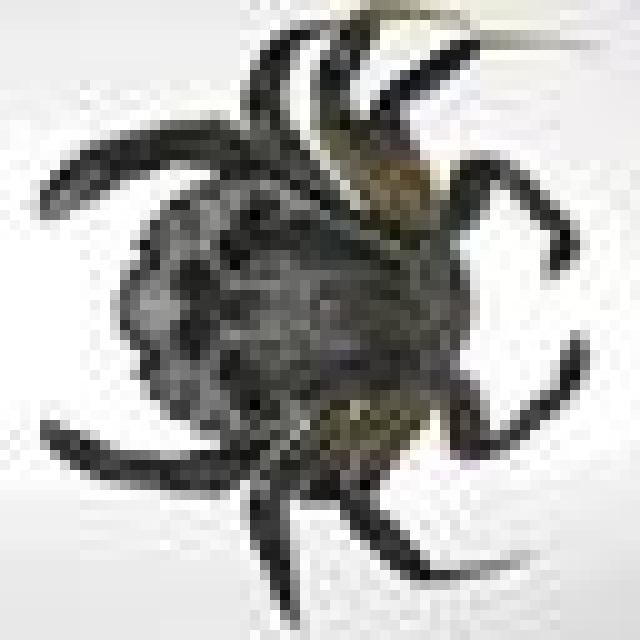European Green crab: (40, 10, 580, 610)
